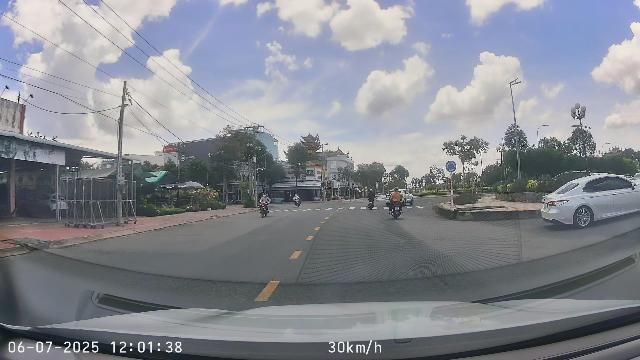303-noi-giao-nhau-chay-theo-vong-xuyen: (445, 160, 456, 172)
